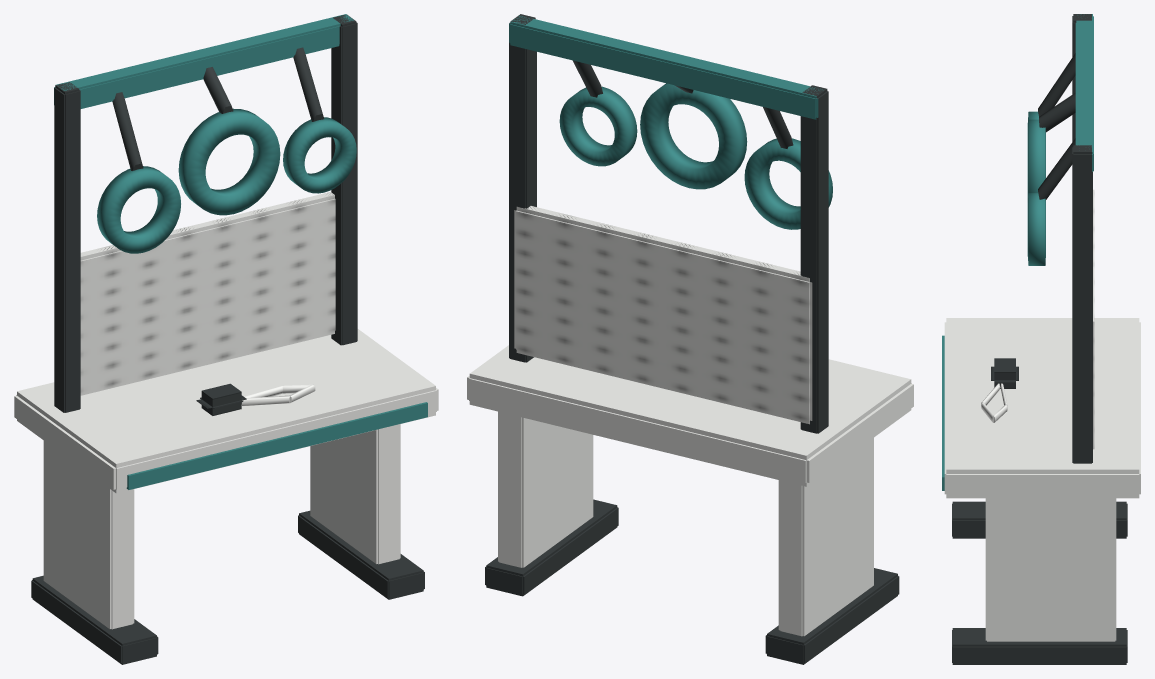
3 views of the same model, side by side, from view 1: azimuth 30°, elevation 25°; view 2: azimuth 150°, elevation 25°; view 3: azimuth 270°, elevation 25° (orthographic). The views are drawn at different scales.
Visible parts, largest first — view 1: Workshop bench, Perforated back and uprights, Three open architectural eyelets, Pocket sample and lime lanyard, Lime lanyard; view 2: Perforated back and uprights, Workshop bench, Three open architectural eyelets; view 3: Workshop bench, Perforated back and uprights, Three open architectural eyelets, Pocket sample and lime lanyard, Lime lanyard.
Part boxes in pixels (left/top/right/bottom): Workshop bench: left=14, top=329, right=438, bottom=664; Perforated back and uprights: left=54, top=14, right=357, bottom=412; Three open architectural eyelets: left=97, top=47, right=356, bottom=253; Pocket sample and lime lanyard: left=196, top=383, right=246, bottom=415; Lime lanyard: left=241, top=384, right=315, bottom=406; Perforated back and uprights: left=509, top=14, right=828, bottom=433; Workshop bench: left=467, top=345, right=913, bottom=664; Three open architectural eyelets: left=559, top=60, right=832, bottom=229; Workshop bench: left=942, top=318, right=1140, bottom=664; Perforated back and uprights: left=1072, top=14, right=1094, bottom=463; Three open architectural eyelets: left=1027, top=53, right=1075, bottom=265; Pocket sample and lime lanyard: left=991, top=358, right=1018, bottom=388; Lime lanyard: left=981, top=383, right=1007, bottom=422.
Bounding box in the file's own units: 1.65 × 2.55 × 0.9.
1 material, 1 textured.
